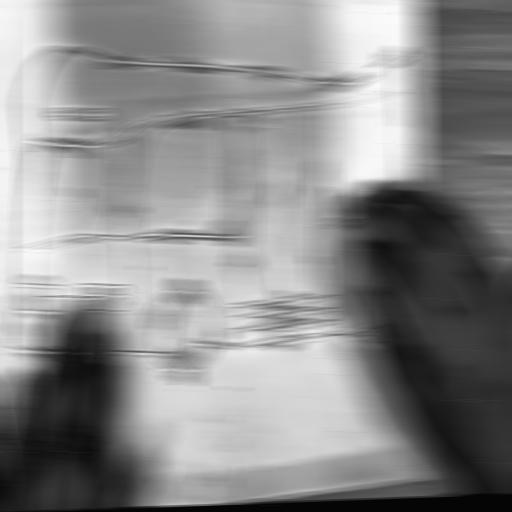bottom_left: (420, 469, 437, 483)
bus: (0, 43, 426, 389)
